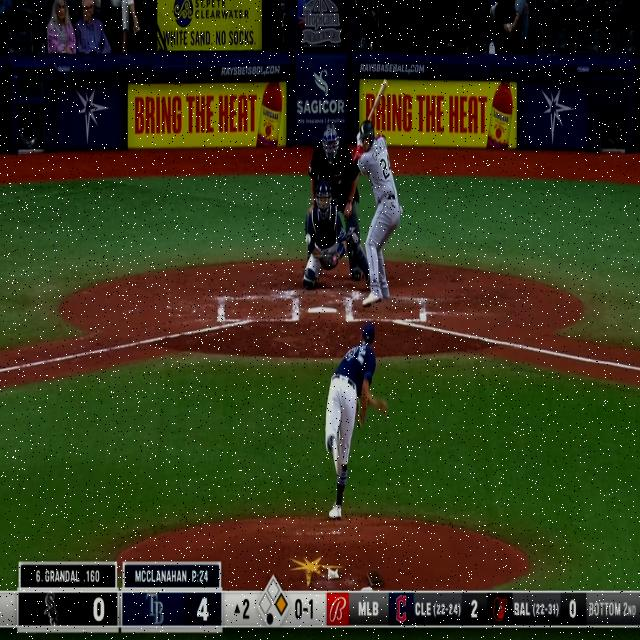baseball: (305, 233, 311, 245)
